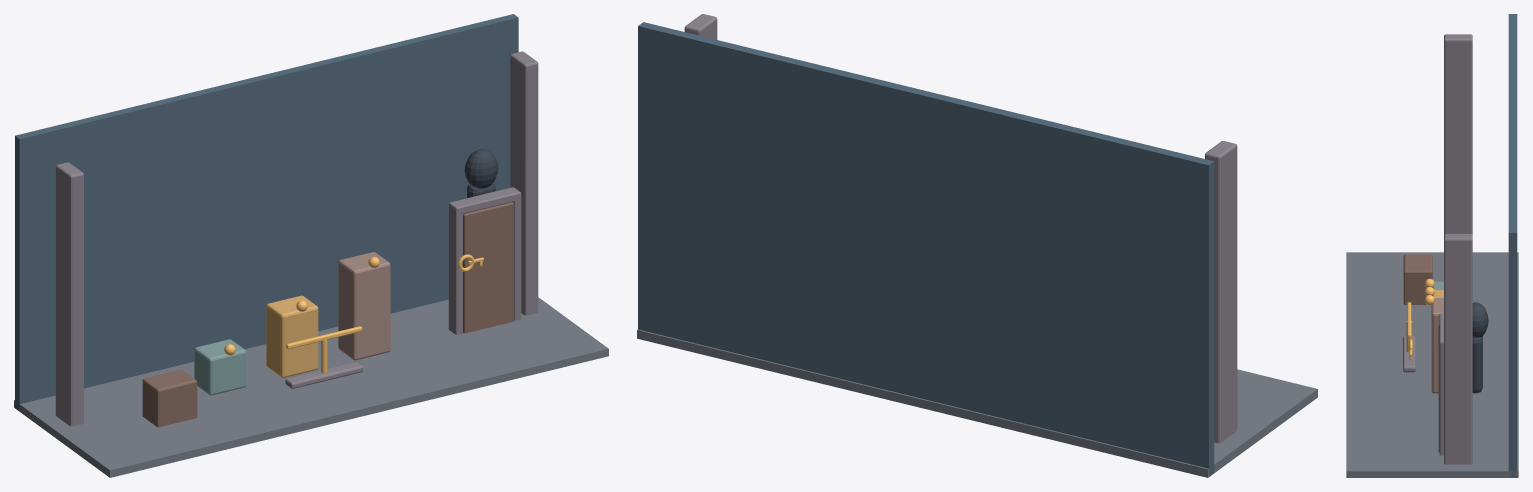
File: risk_channel.glb
3 renders of one model, left to right at view 1: azimuth 30°, elevation 25°; view 2: azimuth 150°, elevation 25°; view 3: azimuth 270°, elevation 25°, orthographic. The views are drawn at different scales.
Parts seen in each view (by area): view 1: StormWall, DockFloor, DockPillar, DockPillar.001, GateDoor, StormIsland, GrowthIsland, EmergencyReserveChest, SteadyIsland, GateFrameL, StormWatcherHead, GateFrameR (+2 smaller); view 2: StormWall, DockFloor, DockPillar; view 3: DockFloor, DockPillar.001, DockPillar, StormWall, EmergencyReserveChest, StormIsland, StormWatcherBody, GateFrameR, StormWatcherHead, BalanceScaleBase, GateDoor.
Boxes of the visible parts, <box> form: StormWall: <box>15,14,518,411</box>; DockFloor: <box>14,297,608,477</box>; DockPillar: <box>55,162,83,426</box>; DockPillar.001: <box>510,51,538,315</box>; GateDoor: <box>463,202,513,333</box>; StormIsland: <box>338,252,390,360</box>; GrowthIsland: <box>266,295,318,377</box>; EmergencyReserveChest: <box>142,369,197,427</box>; SteadyIsland: <box>194,339,246,395</box>; GateFrameL: <box>448,205,462,334</box>; StormWatcherHead: <box>464,149,498,188</box>; GateFrameR: <box>513,194,521,320</box>; StormWall: <box>638,22,1214,476</box>; DockFloor: <box>637,329,1317,477</box>; DockPillar: <box>1205,141,1237,443</box>; DockFloor: <box>1346,252,1518,477</box>; DockPillar.001: <box>1444,233,1472,464</box>; DockPillar: <box>1444,34,1472,234</box>; StormWall: <box>1508,14,1517,477</box>; EmergencyReserveChest: <box>1403,254,1432,304</box>; StormIsland: <box>1431,298,1443,393</box>; StormWatcherBody: <box>1472,336,1482,393</box>; GateFrameR: <box>1439,343,1443,455</box>; StormWatcherHead: <box>1472,302,1488,337</box>; BalanceScaleBase: <box>1403,336,1415,372</box>; GateDoor: <box>1438,324,1439,452</box>.
Size of the model in its own units: 18 by 9.4 by 6.
